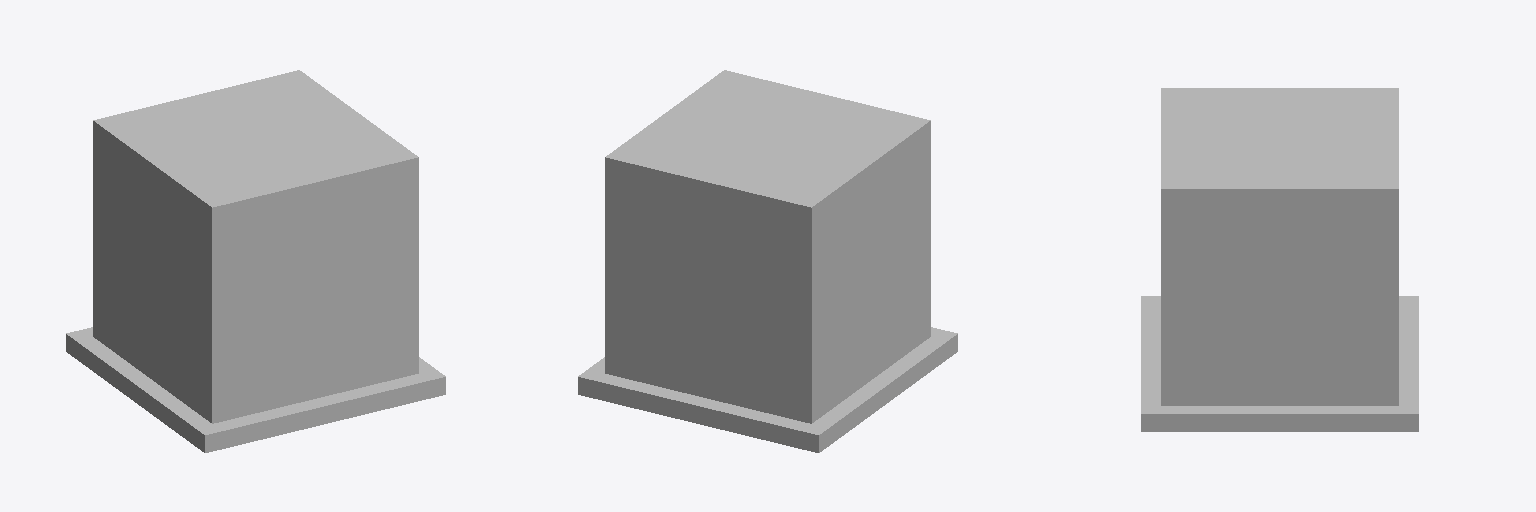
The model's file is testingmodule1.obj.
3 renders of one model, left to right at view 1: azimuth 30°, elevation 25°; view 2: azimuth 150°, elevation 25°; view 3: azimuth 270°, elevation 25°, orthographic.
Parts seen in each view (by area): view 1: cube; view 2: cube; view 3: cube.
Boxes of the visible parts, x1=… form: cube: x1=66, y1=70, x2=445, y2=452; cube: x1=578, y1=70, x2=957, y2=452; cube: x1=1141, y1=88, x2=1418, y2=431.
Bounding box in the file's own units: 0.875 × 0.8125 × 0.875.